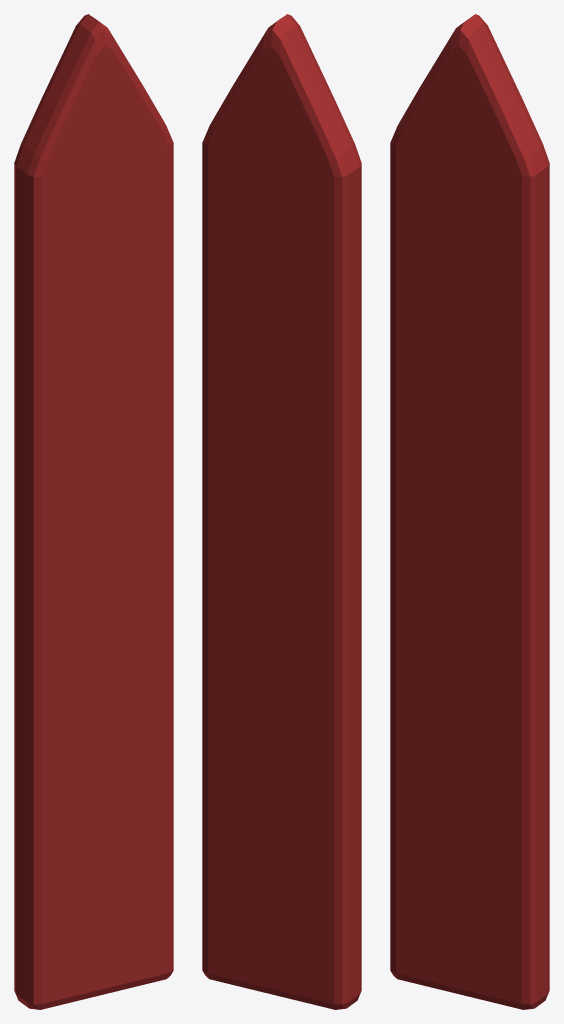
File: qian.fbx
3 views of the same model, side by side, from view 1: azimuth 30°, elevation 25°; view 2: azimuth 150°, elevation 25°; view 3: azimuth 330°, elevation 25° (orthographic).
Visible parts, largest first — view 1: pasted__spike_0; view 2: pasted__spike_0; view 3: pasted__spike_0.
Part boxes in pixels (bbox=[...]): pasted__spike_0: bbox=[14, 14, 173, 1009]; pasted__spike_0: bbox=[202, 14, 361, 1009]; pasted__spike_0: bbox=[390, 14, 549, 1009].
Bounding box in the file's own units: 0.6589 × 4.23 × 0.1734.
